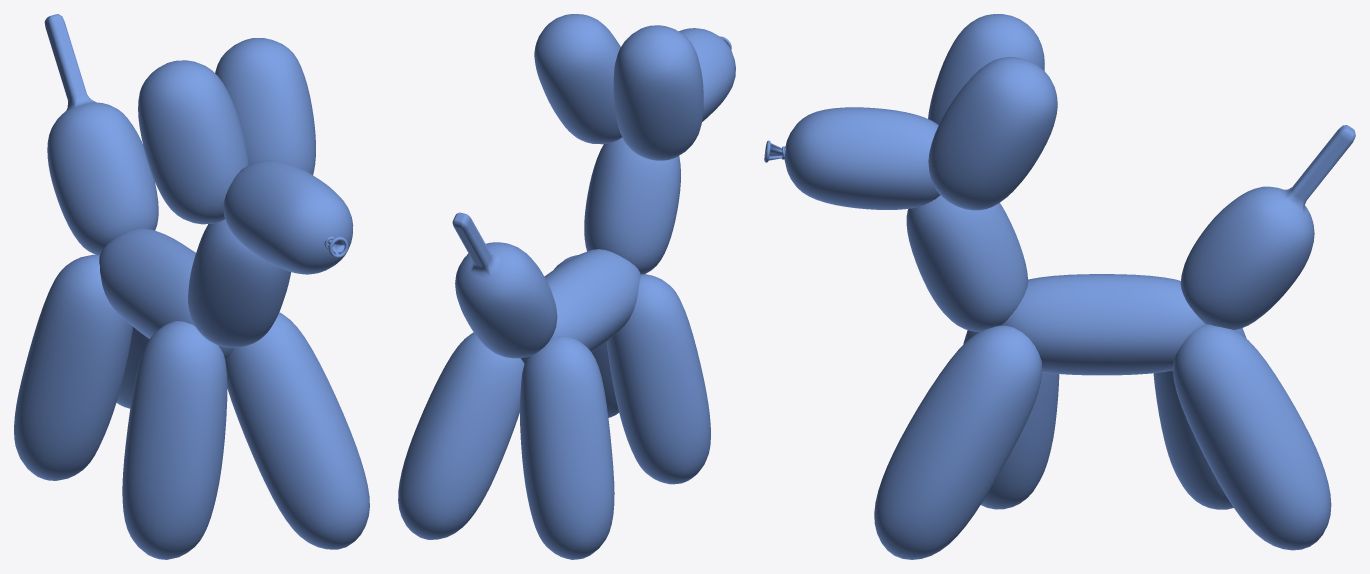
The model's file is balloon_dog.glb.
3 renders of one model, left to right at view 1: azimuth 30°, elevation 25°; view 2: azimuth 150°, elevation 25°; view 3: azimuth 270°, elevation 25°, orthographic. The views are drawn at different scales.
Parts seen in each view (by area): view 1: dog; view 2: dog; view 3: dog.
Boxes of the visible parts, <box> form: dog: <box>14,14,369,559</box>; dog: <box>398,14,735,559</box>; dog: <box>764,14,1355,559</box>.
Bounding box in the file's own units: 3.87 × 9.1 × 9.79.
